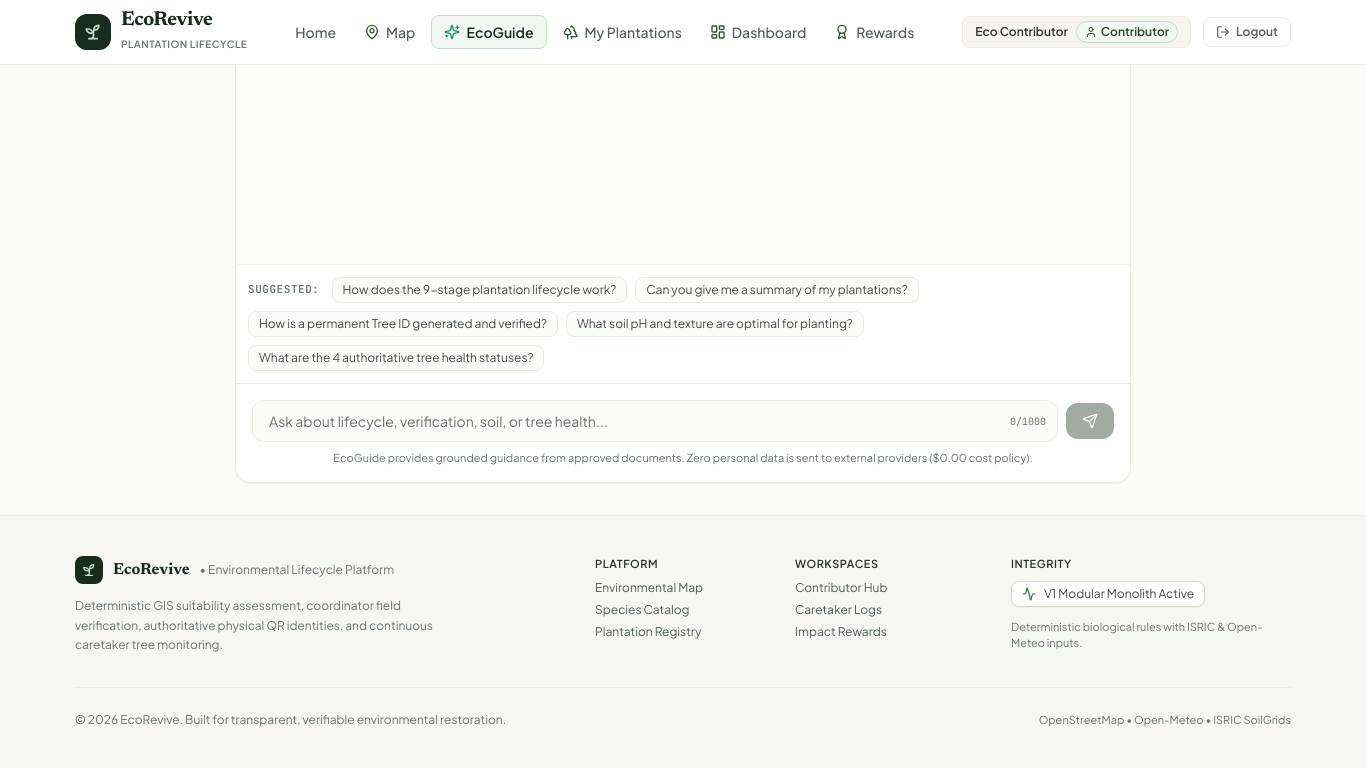
Test: Frontend V2-M2 — EcoGuide Knowledge Assistant › should render plantation count live data response without displaying Limited Knowledge Match
(page scrolled)
Type "tell me how many plantation i have done till now" into the field with test id "ecoguide-input" at (655, 420), box 252,400 -> 1058,442
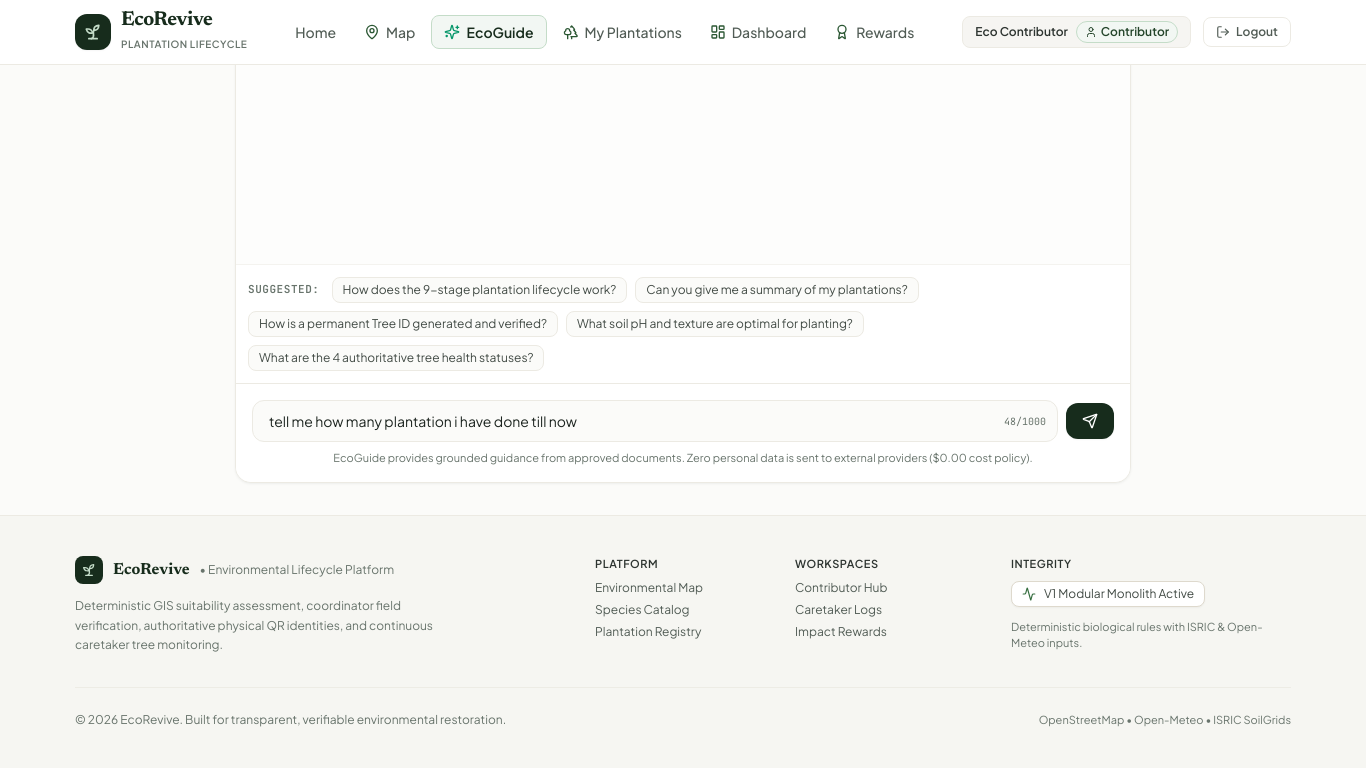
Click the button with test id "ecoguide-send" at (1090, 420), box 1066,402 -> 1114,438
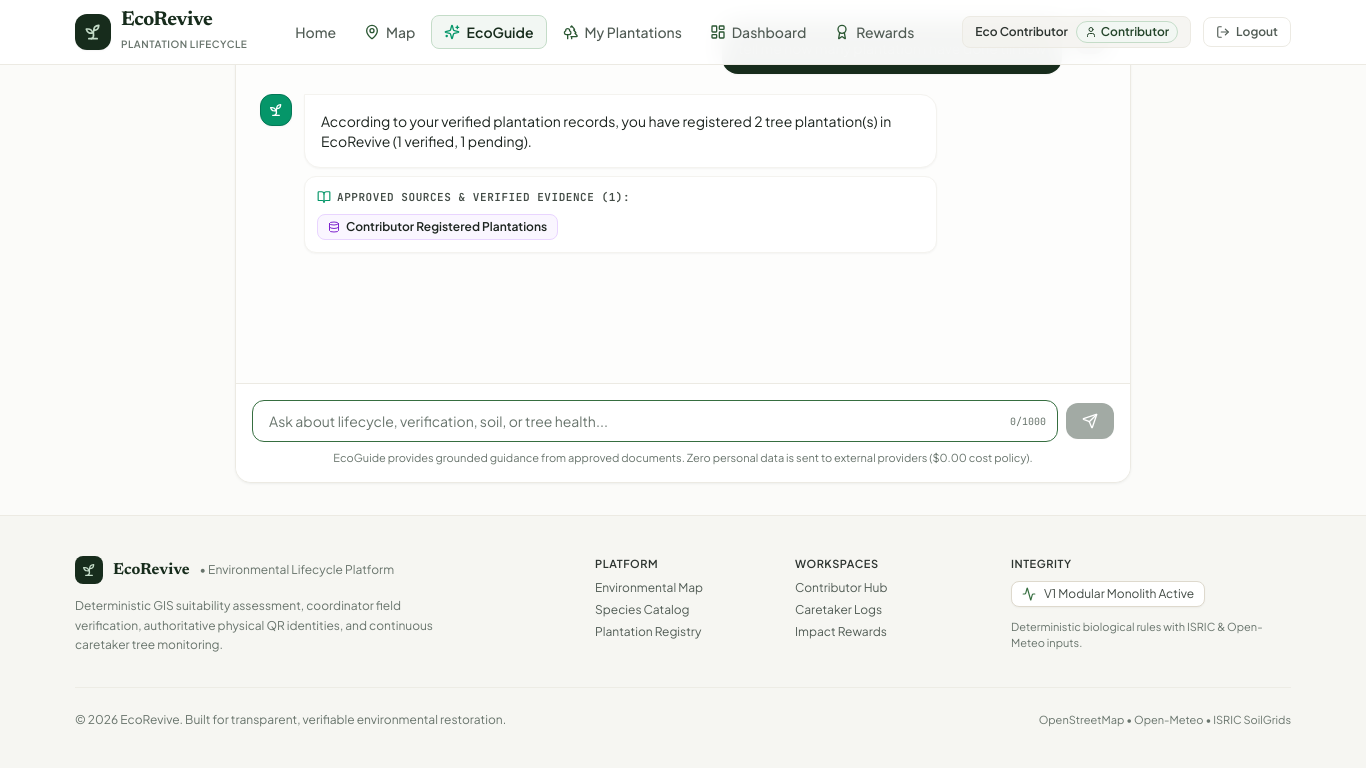
expect the text "you have registered 2 tree plantation(s)" is shown: met, box 321,112 -> 894,150
expect the text "Contributor Registered Plantations" is shown: met, box 346,218 -> 547,234
